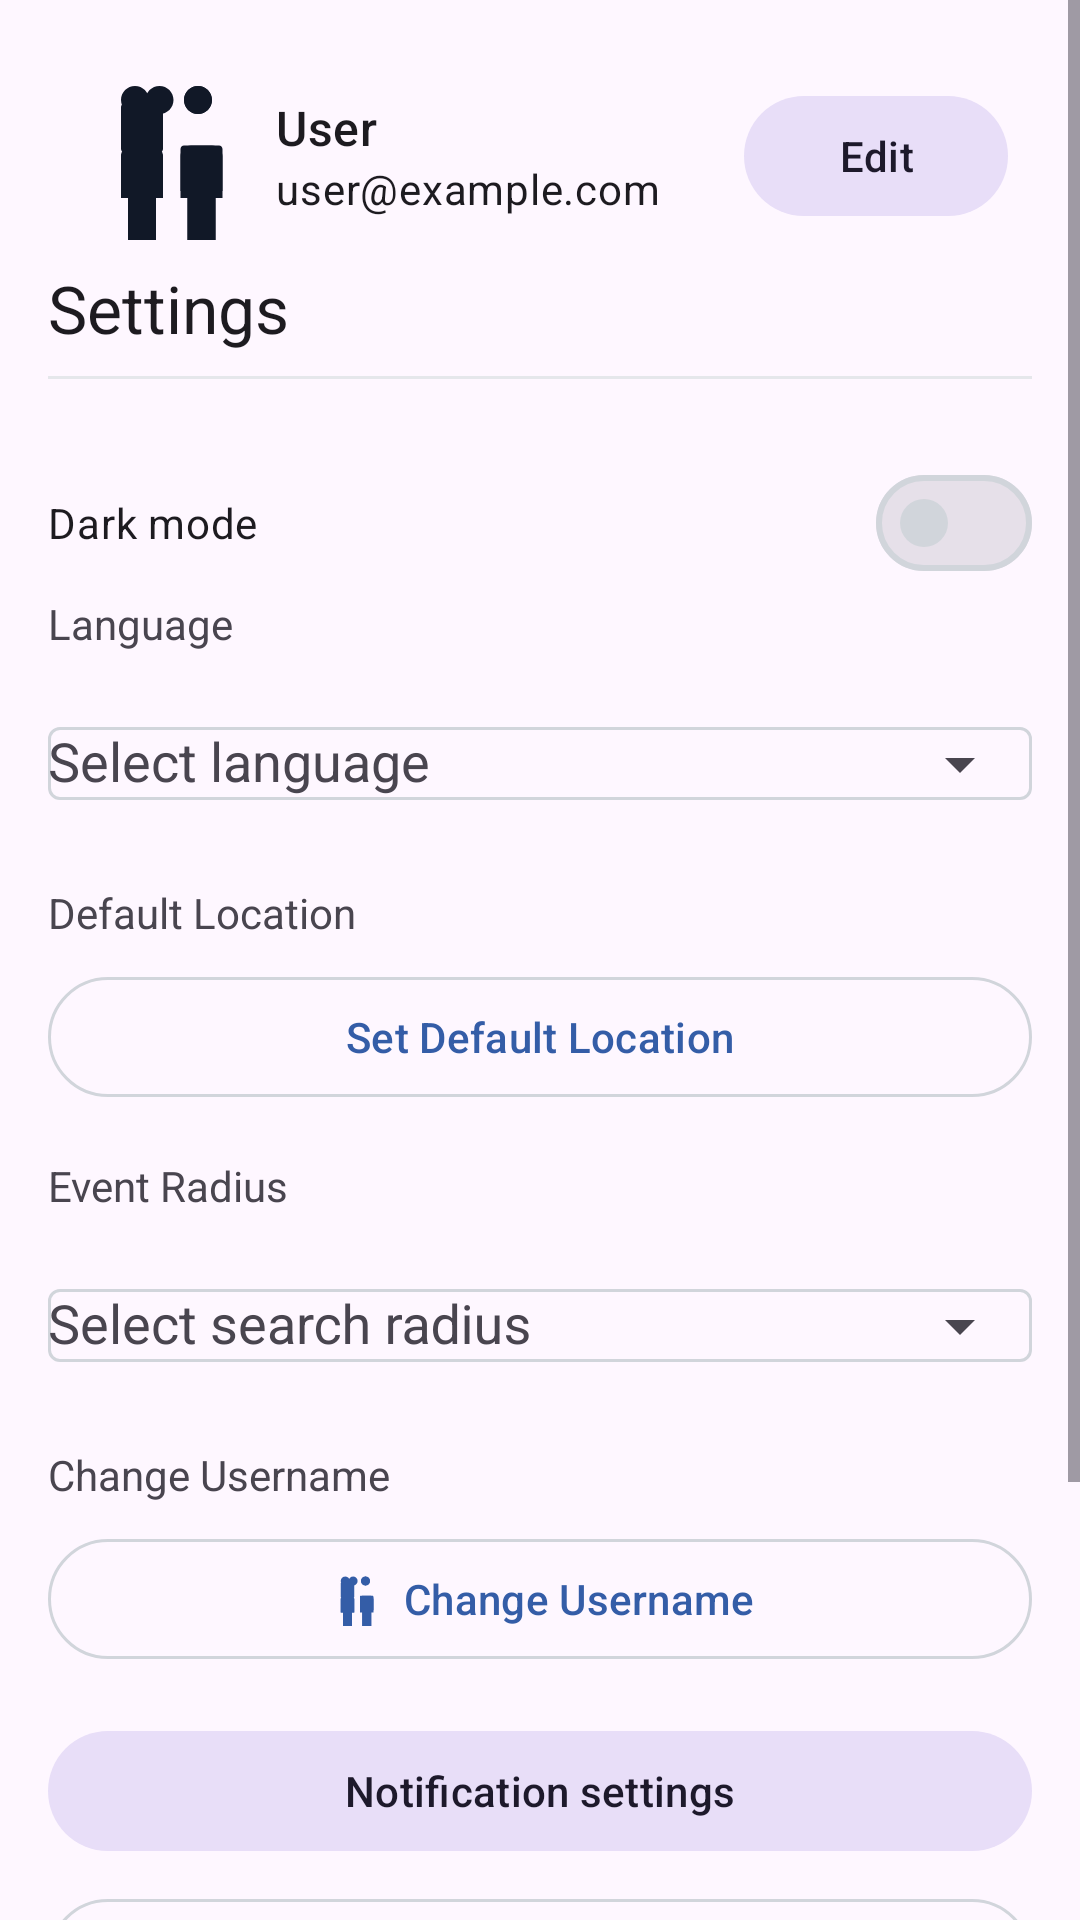

Icon click points for this 1080x1920 phone screenshot, format (x,y):
people: (172,163)
